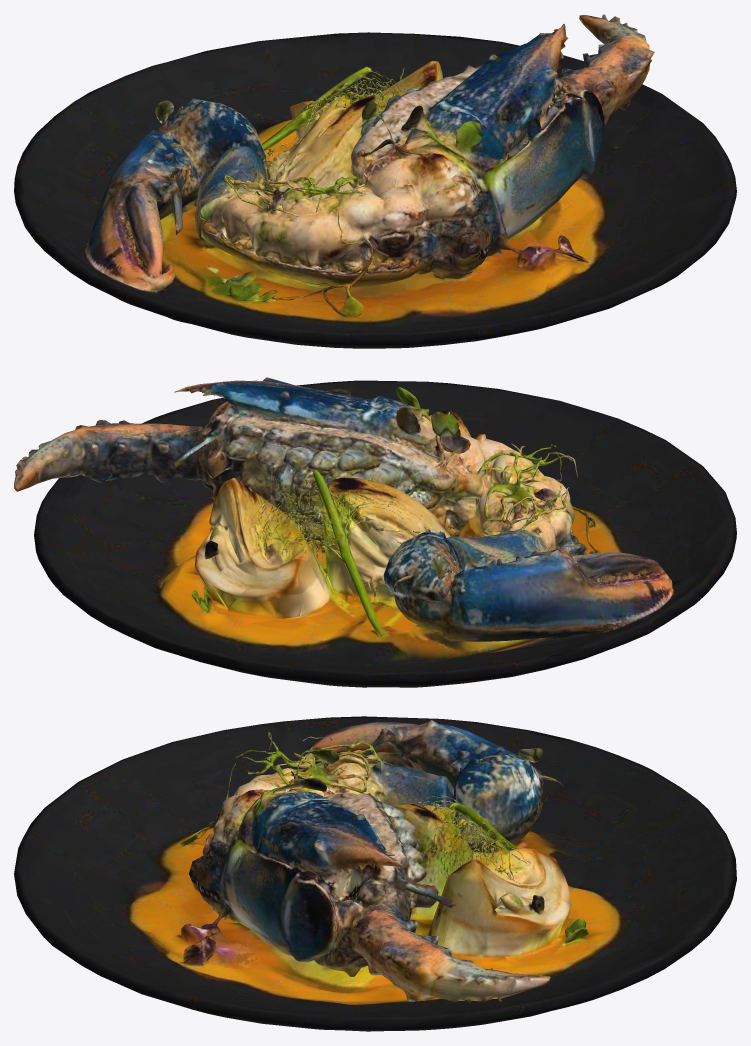
File: homard-mobile.glb
3 views of the same model, one above another, from view 1: azimuth 30°, elevation 25°; view 2: azimuth 150°, elevation 25°; view 3: azimuth 270°, elevation 25° (orthographic). The views are drawn at different scales.
Parts seen in each view (by area): view 1: node0; view 2: node0; view 3: node0.
Part boxes in pixels (box(x1,y1,x2,y2)): node0: box(14, 14, 736, 348); node0: box(14, 377, 736, 687); node0: box(14, 716, 736, 1031).
Size of the model in its own units: 0.2098 by 0.0552 by 0.2093.
1 material, 1 textured.
